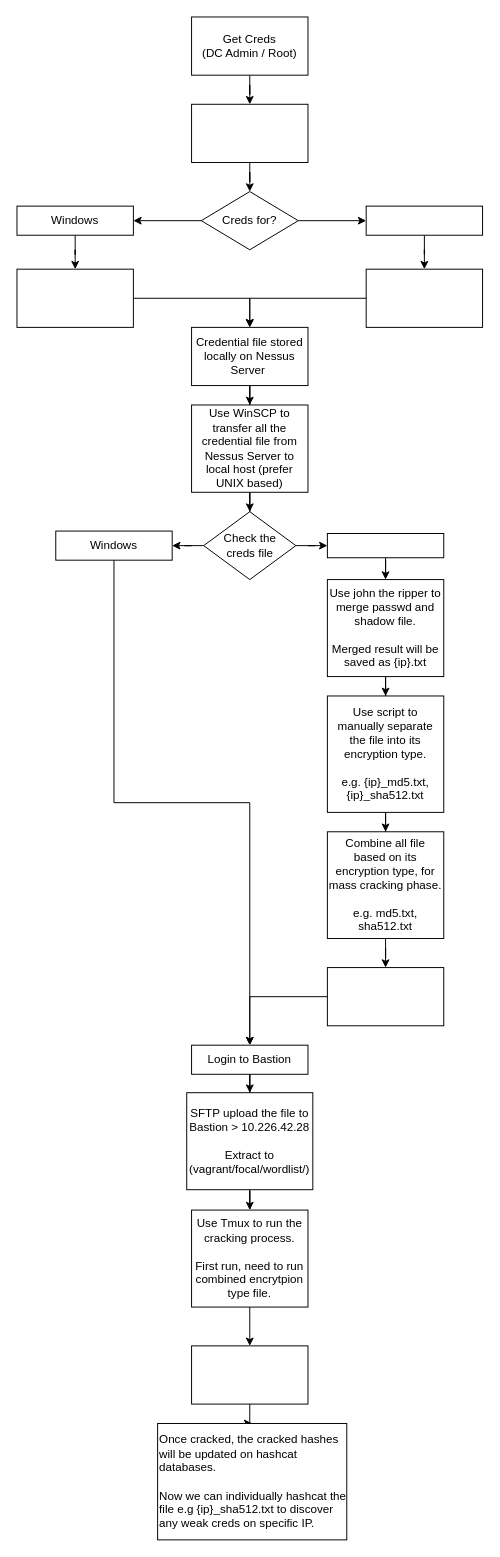
This 500x1557 diagram has some shape labels left out. Here are the shapes that lost their labels. From the top down, the box of each, then its label:
(191, 103, 308, 162): Login To Nessus Server
(365, 205, 483, 235): Nix Based
(16, 268, 133, 327): Use secretdump by Impacket to grab all username:hashes
(365, 268, 483, 327): Use custom script to get passwd and shadow file form
(326, 533, 444, 558): Linux
(326, 967, 444, 1026): Properly store all of this output in a proper folder, and zip it
(191, 1345, 308, 1404): Hashcat tips: 1. MD5: 1000 2. SHA512: 1800 3. DES: 500
